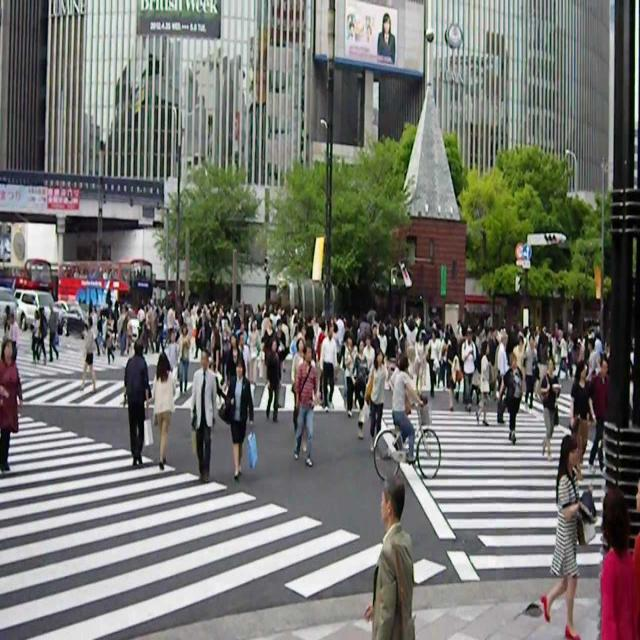body: (538, 431, 598, 639), (362, 475, 416, 639), (598, 485, 640, 639), (218, 353, 258, 483), (188, 346, 218, 484), (123, 335, 153, 469), (390, 353, 424, 464), (294, 342, 320, 467), (150, 350, 177, 470), (0, 337, 24, 471), (570, 358, 596, 478), (363, 347, 389, 454), (589, 353, 611, 476), (538, 356, 562, 462), (364, 345, 387, 452), (297, 339, 317, 454), (502, 351, 524, 445), (350, 335, 370, 438), (387, 352, 409, 445), (117, 298, 155, 349), (59, 263, 150, 283), (318, 322, 338, 412), (194, 297, 226, 349), (476, 338, 494, 428), (264, 336, 282, 424), (460, 324, 477, 414), (78, 314, 96, 396), (291, 337, 305, 435), (494, 331, 508, 423), (337, 307, 386, 333), (443, 332, 459, 410), (287, 302, 319, 340), (388, 313, 418, 353), (175, 323, 191, 397), (246, 318, 262, 390), (344, 335, 358, 417), (226, 332, 246, 388), (524, 332, 538, 409), (427, 327, 441, 398), (226, 302, 288, 318), (377, 12, 396, 61), (419, 311, 461, 333), (585, 337, 598, 408), (630, 474, 640, 565), (512, 335, 526, 397), (236, 330, 252, 384), (339, 329, 350, 406), (414, 329, 426, 394), (274, 318, 286, 380), (510, 320, 559, 335), (47, 302, 59, 363), (6, 312, 20, 364), (36, 306, 48, 366), (317, 321, 326, 401), (476, 316, 508, 338), (262, 317, 276, 367), (29, 309, 41, 367), (568, 321, 604, 339), (89, 304, 101, 357), (556, 330, 568, 380), (176, 290, 194, 322), (156, 302, 166, 356), (362, 334, 376, 372), (594, 332, 605, 377), (107, 310, 116, 364), (100, 309, 110, 354), (166, 300, 176, 343), (168, 329, 178, 372), (538, 335, 556, 357), (112, 298, 120, 346), (566, 333, 574, 378), (377, 324, 388, 356), (174, 309, 184, 343), (318, 306, 338, 322), (370, 324, 380, 354), (225, 318, 247, 331), (4, 304, 11, 332)
